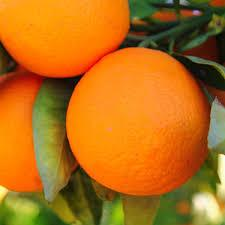orange: (64, 34, 217, 193), (0, 68, 78, 203), (0, 4, 127, 71)
